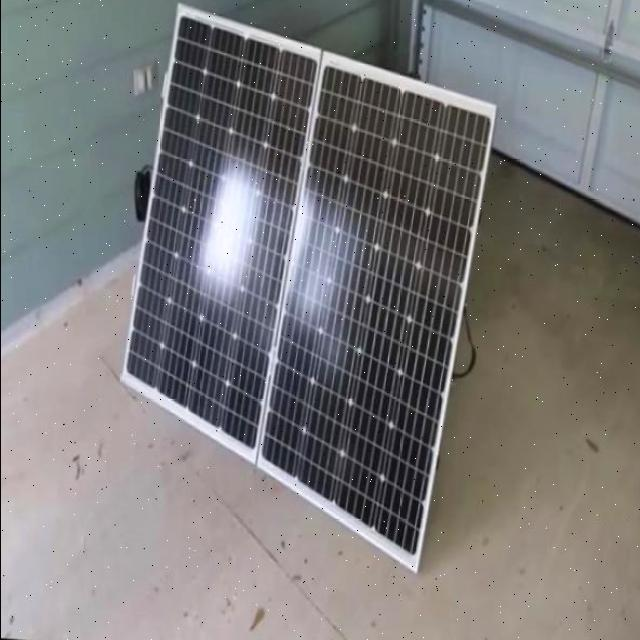Normal Solar Panel: (110, 5, 502, 579)
